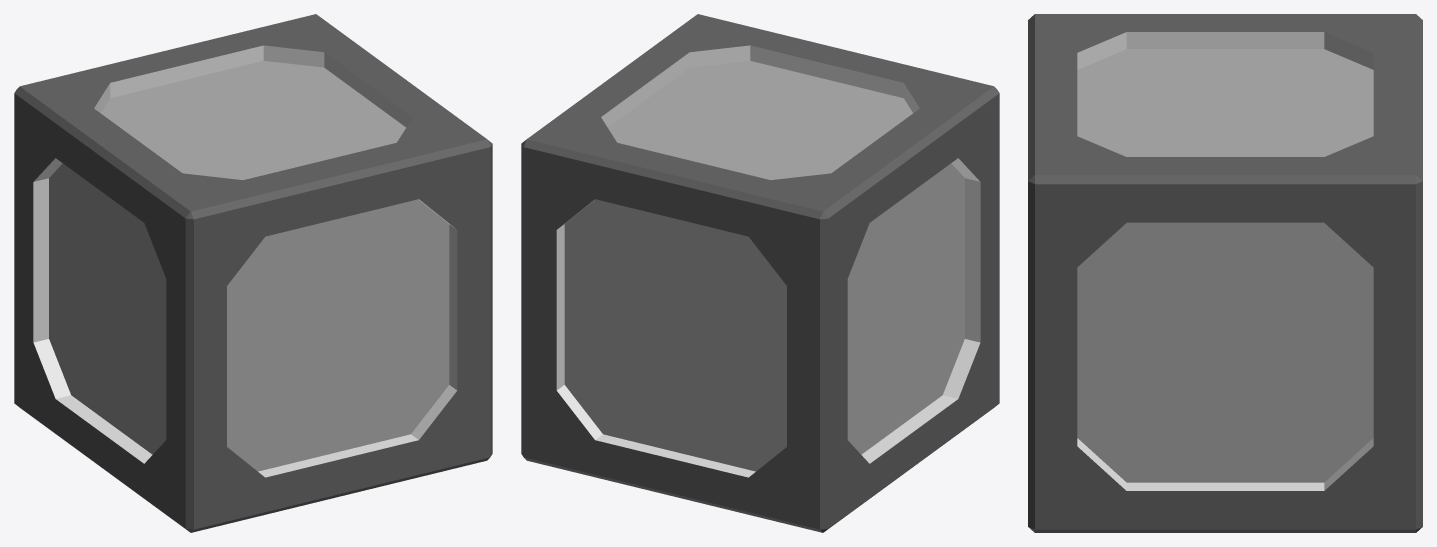
Rendered from SciFI_Crate(M4tt3o).fbx.
The picture shows the model from 3 angles, left to right: view 1: azimuth 30°, elevation 25°; view 2: azimuth 150°, elevation 25°; view 3: azimuth 270°, elevation 25°; orthographic projection. The views are drawn at different scales.
Parts seen in each view (by area): view 1: Cube.003; view 2: Cube.003; view 3: Cube.003.
Part boxes in pixels (box(x1,y1,x2,y2)): Cube.003: box(14, 14, 492, 532); Cube.003: box(521, 14, 999, 532); Cube.003: box(1028, 14, 1422, 532).
Size of the model in its own units: 200 by 200 by 200.
2 materials, 1 textured.
